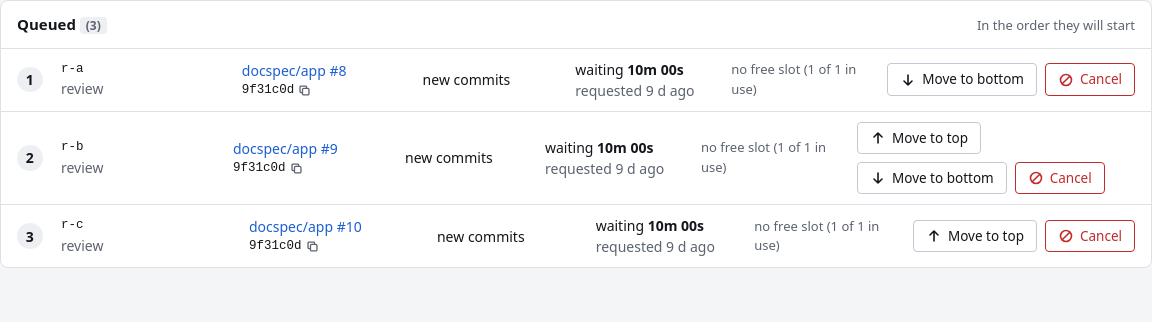
Queued › says why a move did not go through
Click the button "Move to top" in the row of "r-c".
click(975, 236)  # box [913,220,1037,252]
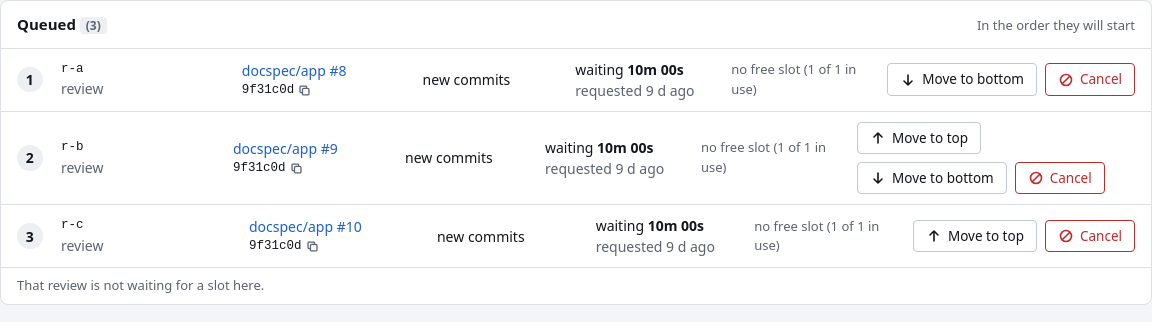
Now the message "That review is not waiting for a slot here." is shown, box [17,276,264,296]
